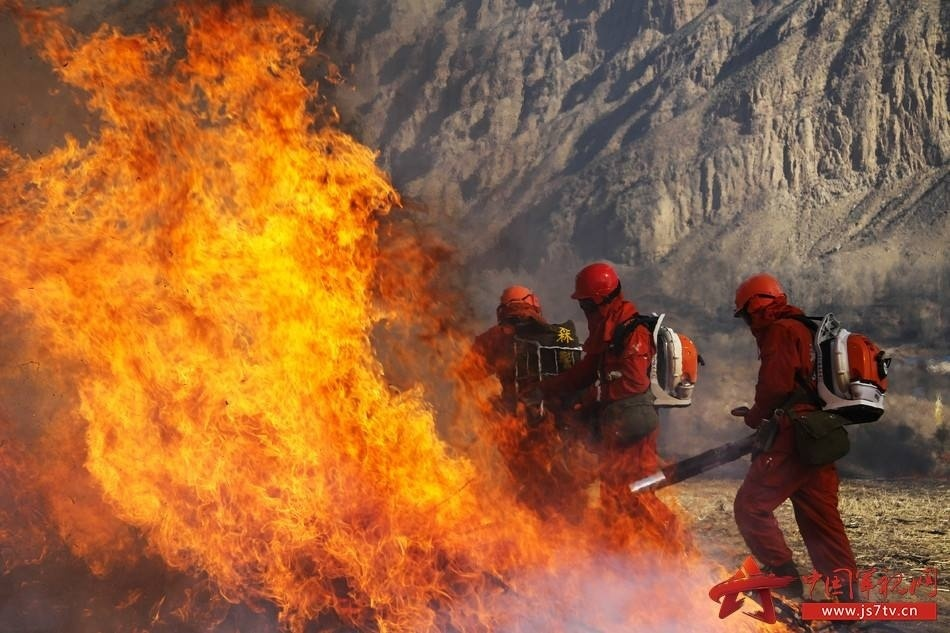fire: (2, 19, 608, 598)
